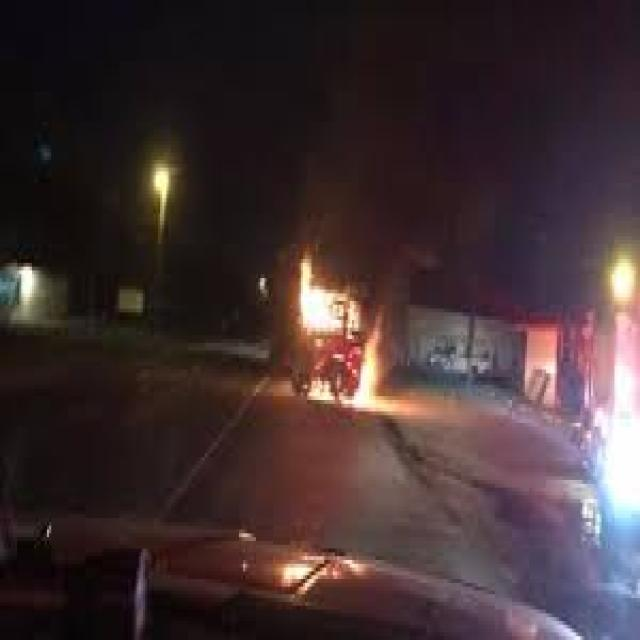Fire: (298, 258, 358, 328), (358, 341, 382, 404)
Smoke: (349, 192, 420, 256), (368, 262, 411, 321)
